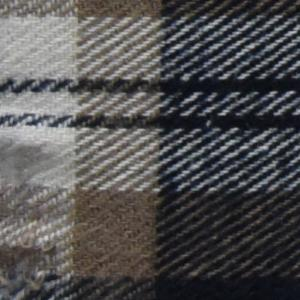Damage: (1, 140, 75, 300)
